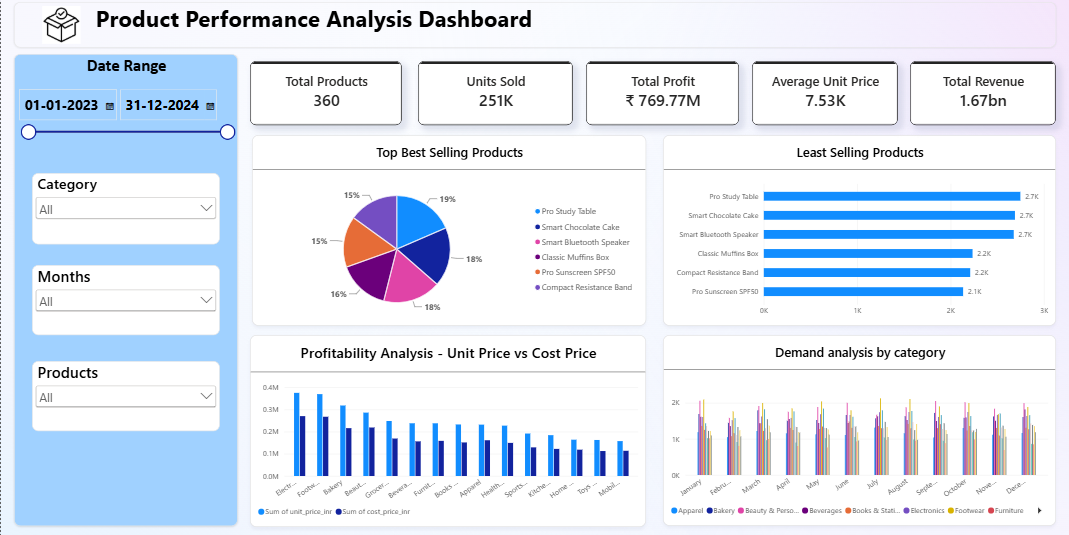

Layout of this report page (visuals, bound fields, positions):
{"tool":"powerbi","page":{"name":"Product Performance Analysis","canvas":[1780,825],"ordinal":3},"visuals":[{"type":"pieChart","title":"Top Best Selling Products","fields":{"Category":["dim2_products_cleaned.product_name"],"Y":["sales_order_items_cleaned.Total Revenue"]},"box":[420.6,95.2,657.1,350.8],"z":0},{"type":"clusteredBarChart","title":"Least Selling Products","fields":{"Category":["dim2_products_cleaned.product_name"],"Y":["sales_order_items_cleaned.Total Sales"]},"box":[1103.2,95.2,655.6,350.8],"z":1000},{"type":"clusteredColumnChart","title":"Profitability Analysis - Unit Price vs Cost Price","fields":{"Category":["categories_cleaned.category_name"],"Y":["Sum(dim2_products_cleaned.unit_price_inr)","Sum(dim2_products_cleaned.cost_price_inr)"]},"box":[420.6,458.7,660.3,357.1],"z":2000},{"type":"clusteredColumnChart","title":"Demand analysis by category ","fields":{"Category":["DateTable.Date.Variation.Date Hierarchy.Month","categories_cleaned.category_name"],"Series":["categories_cleaned.category_name"],"Y":["sales_order_items_cleaned.Total Quantity"]},"box":[1103.2,458.7,655.6,357.1],"z":3000},{"type":"textbox","title":"Retail Sails & Inventory Analysis Dashboard","box":[22.2,7.9,1736.5,76.2],"z":4000},{"type":"slicer","title":"Date Range","fields":{"Values":["sales_orders_cleaned.order_date"]},"box":[22.2,95.2,373,720.6],"z":5000},{"type":"slicer","fields":{"Values":["DateTable.Date.Variation.Date Hierarchy.Month"]},"box":[52.4,446,312.7,117.5],"z":7000},{"type":"slicer","fields":{"Values":["dim2_products_cleaned.product_name"]},"box":[52.4,606.3,312.7,117.5],"z":8000},{"type":"image","box":[22.2,84.1,136.5,96.8],"z":9000},{"type":"image","box":[61.9,14.3,77.8,63.5],"z":10000},{"type":"slicer","fields":{"Values":["categories_cleaned.category_name"]},"box":[52.4,293.7,312.7,119],"z":10001}]}

Visuals, with their boxes on the page's 1780x825 design canvas (x1, y1, x2, y2). These are canvas units, not pixel positions in the 1069x535 screenshot, which may show the page scaled, cropped or inside an application window:
"Top Best Selling Products" pieChart: box=[421, 95, 1078, 446]
"Least Selling Products" clusteredBarChart: box=[1103, 95, 1759, 446]
"Profitability Analysis - Unit Price vs Cost Price" clusteredColumnChart: box=[421, 459, 1081, 816]
"Demand analysis by category " clusteredColumnChart: box=[1103, 459, 1759, 816]
"Retail Sails & Inventory Analysis Dashboard" textbox: box=[22, 8, 1759, 84]
"Date Range" slicer: box=[22, 95, 395, 816]
slicer - DateTable.Date.Variation.Date Hierarchy.Month: box=[52, 446, 365, 564]
slicer - dim2_products_cleaned.product_name: box=[52, 606, 365, 724]
image: box=[22, 84, 159, 181]
image: box=[62, 14, 140, 78]
slicer - categories_cleaned.category_name: box=[52, 294, 365, 413]
